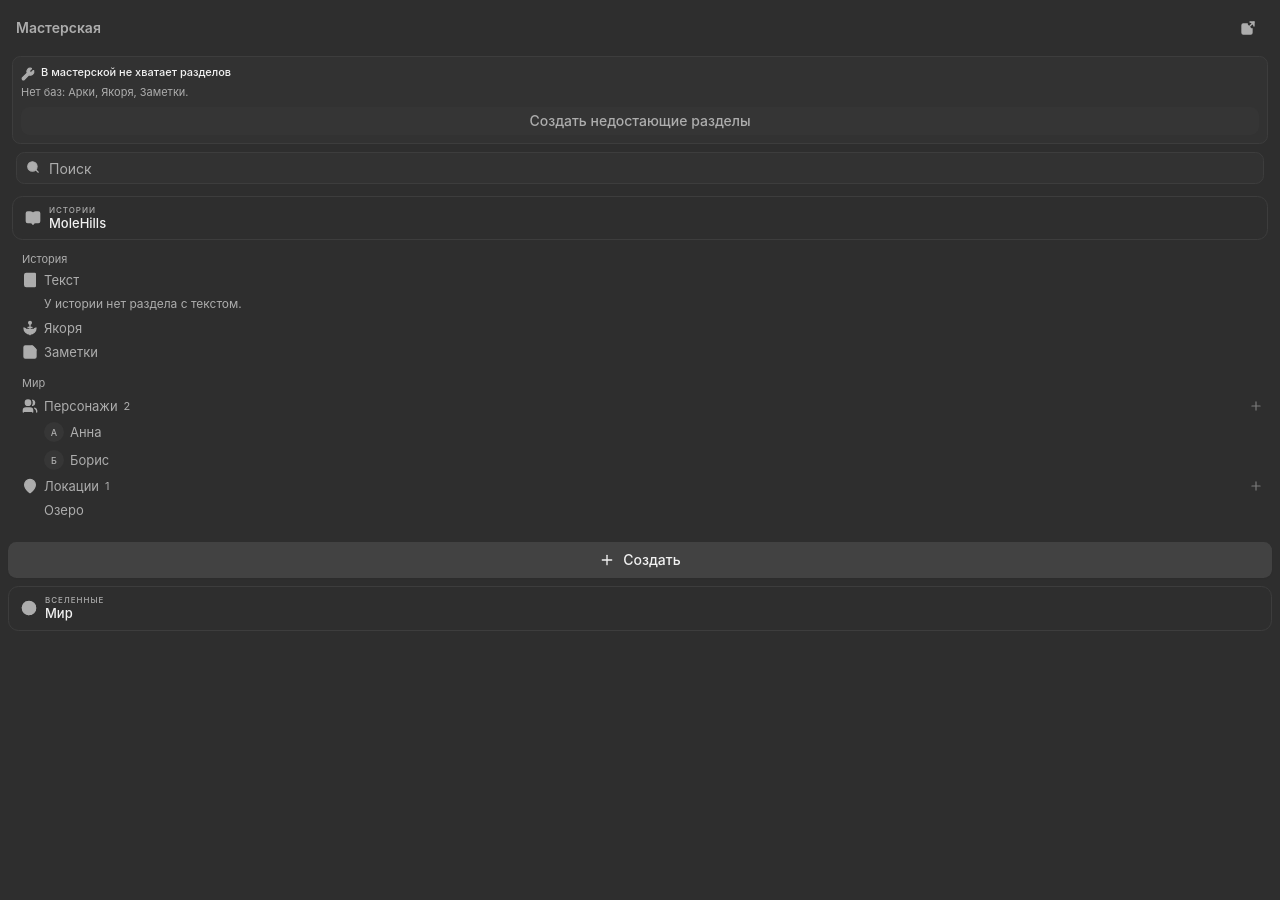
it: CreativePanel: belonging to stories and universes › shows a universe through its stories
Expected: the button "А Анна" is shown, [8, 418, 1272, 446]
Click the dropdown named "История".
click(72, 210)  # box [13, 197, 1267, 239]
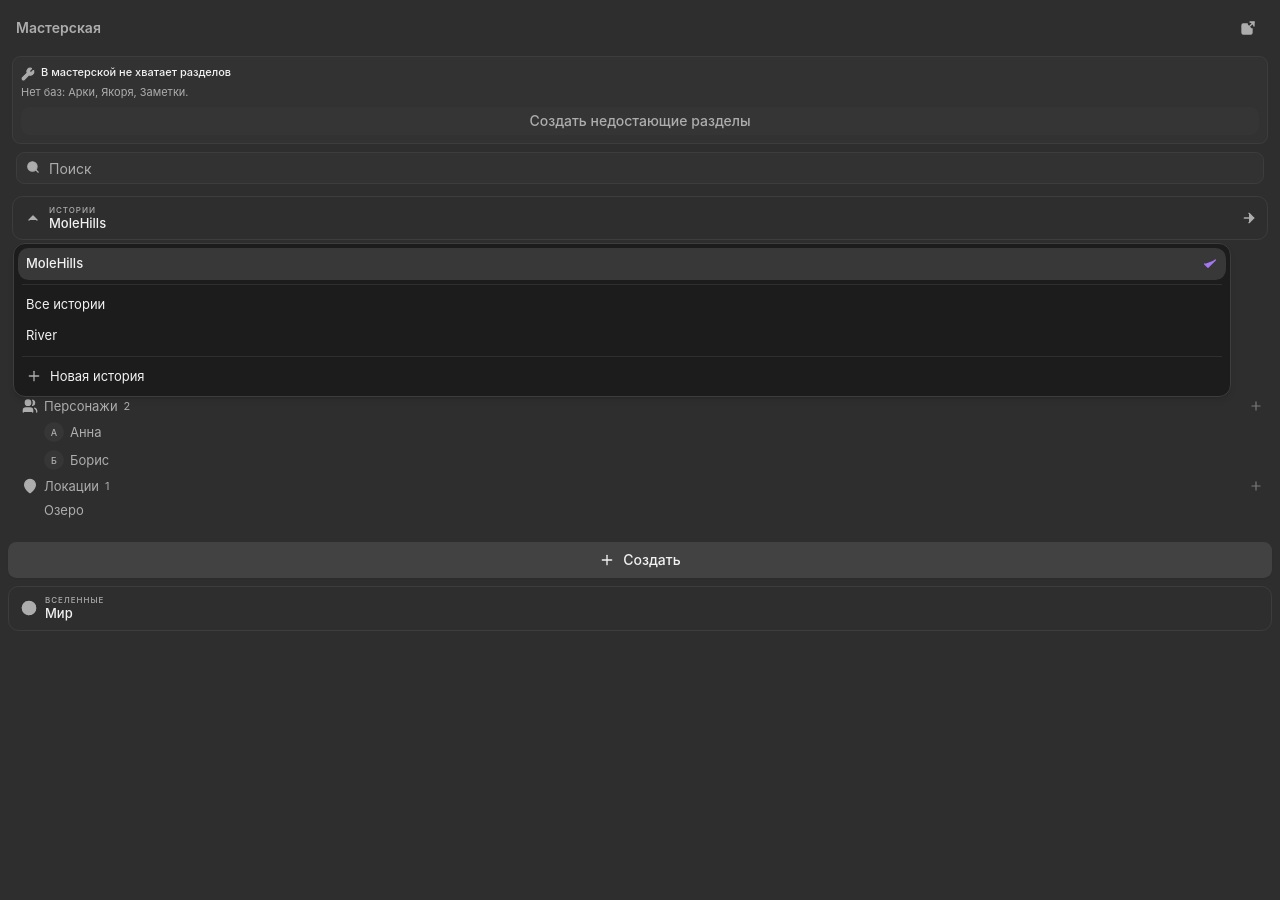
Click the option "Все истории".
click(66, 304)  # box [18, 288, 1226, 320]
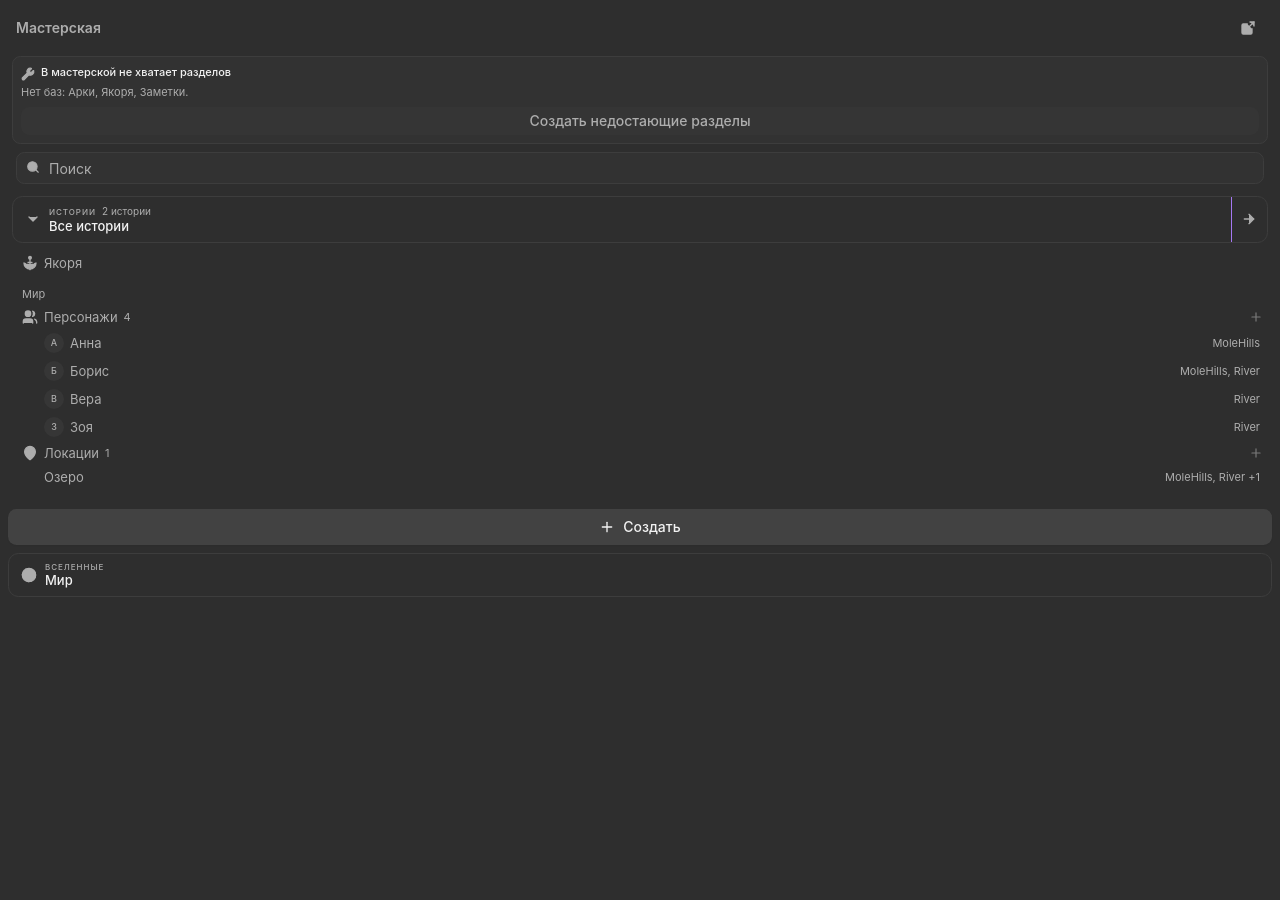
Result: the button "В Вера River" is shown at [8, 385, 1272, 413]
